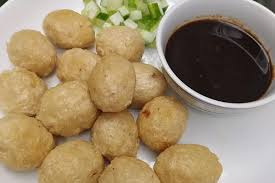Pempek adaan: (36, 79, 100, 138), (0, 111, 56, 173), (37, 137, 104, 183), (153, 143, 224, 183), (7, 26, 59, 80), (88, 54, 135, 112), (138, 97, 189, 150), (0, 63, 47, 118), (92, 109, 141, 160), (41, 7, 97, 51), (126, 57, 169, 111), (93, 24, 148, 64), (98, 155, 161, 183), (55, 48, 100, 82)
